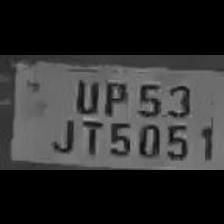0: (133, 119, 161, 158)
1: (192, 118, 218, 160)
3: (163, 80, 192, 116)
5: (132, 78, 164, 116), (163, 118, 191, 160), (102, 116, 132, 155)
J: (45, 112, 76, 152)
P: (98, 76, 130, 116)
T: (76, 116, 102, 154)
U: (70, 74, 100, 114)
